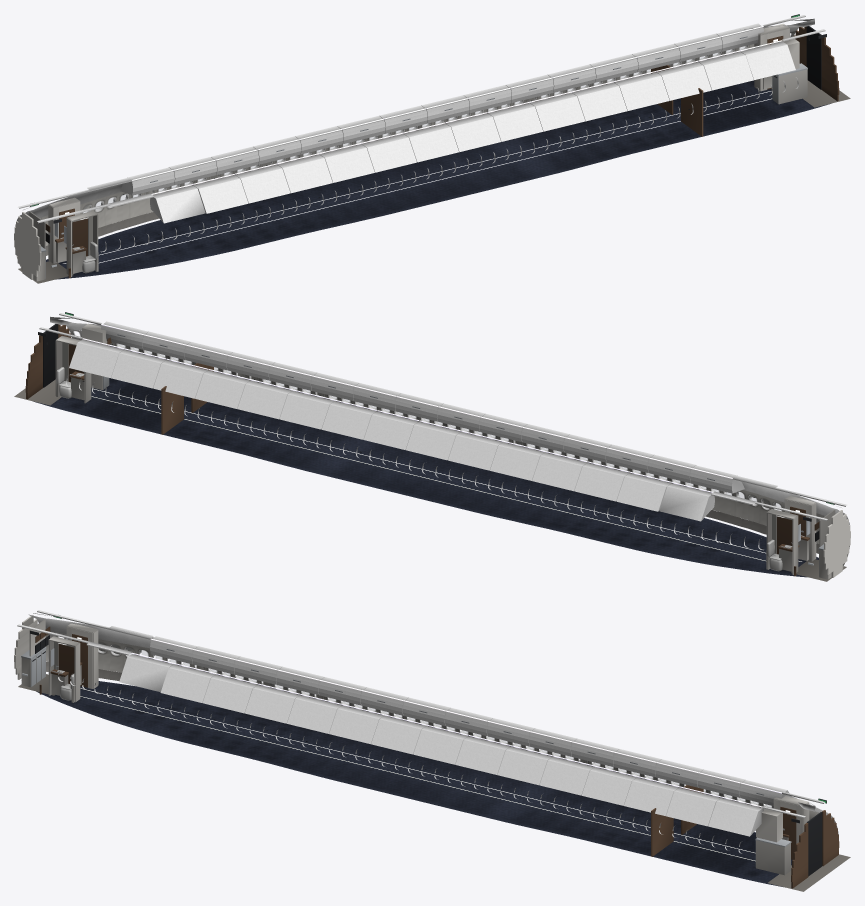
The model's file is b737-800-cabin.glb.
3 views of the same model, one above another, from view 1: azimuth 30°, elevation 25°; view 2: azimuth 150°, elevation 25°; view 3: azimuth 330°, elevation 25° (orthographic).
Parts seen in each view (by area): view 1: Cabin_Overhead, Cabin_Floor, Cabin_Monuments, Cabin_Lining, Cabin_Reveals; view 2: Cabin_Overhead, Cabin_Floor, Cabin_Monuments, Cabin_Lining, Cabin_Reveals; view 3: Cabin_Overhead, Cabin_Floor, Cabin_Monuments, Cabin_Lining, Cabin_Reveals.
Part boxes in pixels (<box>): Cabin_Overhead: <box>18,15,825,223</box>; Cabin_Floor: <box>18,80,850,283</box>; Cabin_Monuments: <box>14,14,839,281</box>; Cabin_Lining: <box>15,19,814,267</box>; Cabin_Reveals: <box>83,45,798,252</box>; Cabin_Overhead: <box>39,313,846,521</box>; Cabin_Floor: <box>14,378,846,581</box>; Cabin_Monuments: <box>25,312,850,579</box>; Cabin_Lining: <box>50,317,849,565</box>; Cabin_Reveals: <box>66,343,780,550</box>; Cabin_Overhead: <box>17,610,824,836</box>; Cabin_Floor: <box>18,674,850,891</box>; Cabin_Monuments: <box>14,615,839,888</box>; Cabin_Lining: <box>28,614,838,834</box>; Cabin_Reveals: <box>58,642,771,853</box>.
Size of the model in its own units: 30.78 by 2.42 by 3.66.
Materials: 21 (7 with a texture image).
